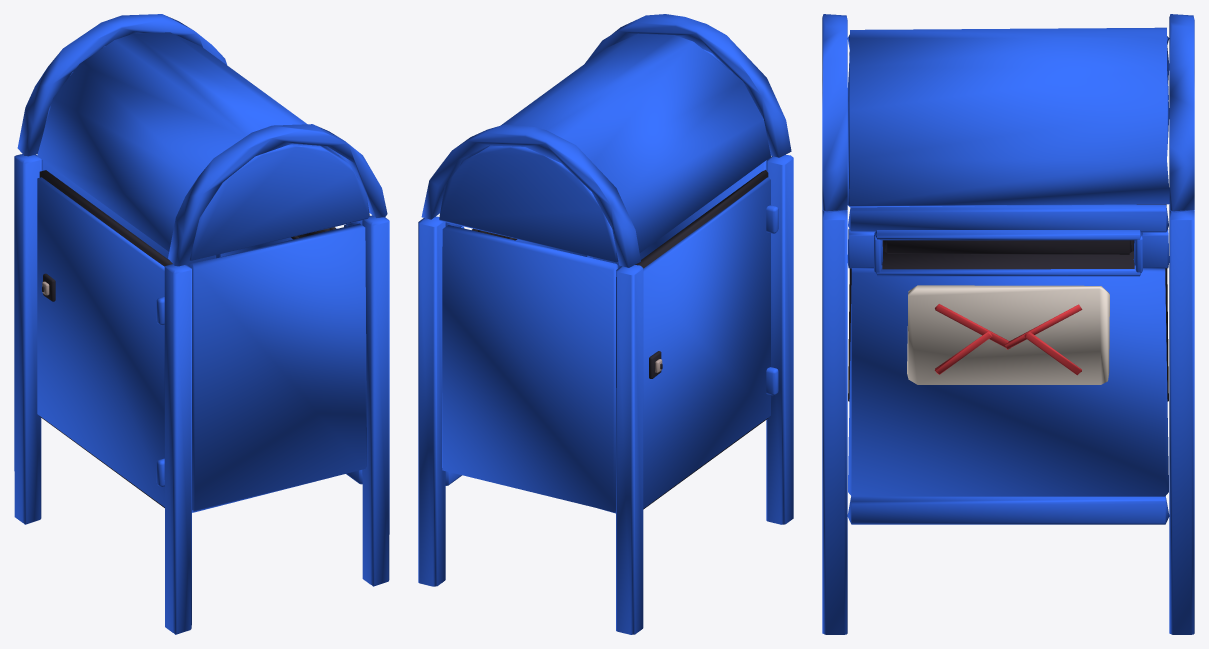
File: prop.mailbox-blue.lod1.glb
3 views of the same model, side by side, from view 1: azimuth 30°, elevation 25°; view 2: azimuth 150°, elevation 25°; view 3: azimuth 270°, elevation 25° (orthographic). The views are drawn at different scales.
Parts seen in each view (by area): view 1: body, door_collection; view 2: body, door_collection; view 3: body, object 1.
Boxes of the visible parts, x1,y1,x2,y2 form: body: [14, 14, 389, 634]; door_collection: [37, 177, 164, 507]; body: [418, 14, 793, 634]; door_collection: [643, 177, 778, 508]; body: [822, 14, 1194, 634]; object 1: [885, 240, 1131, 254].
Bounding box in the file's own units: 0.739 × 1.54 × 0.942.
